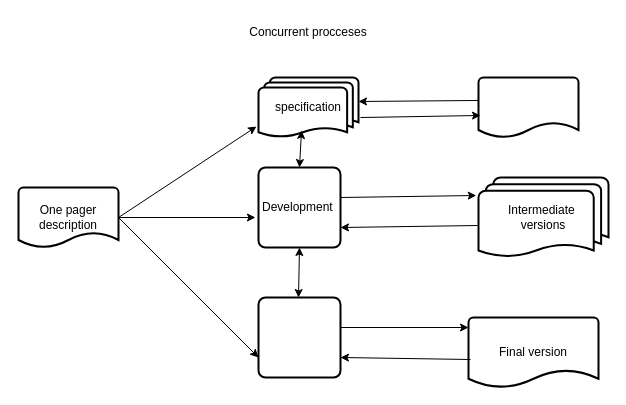
Some shapes in this 626 by 405 pixel diagram are drawn without their labels. Here are the shapes that lost their labels. From the top down, the centre of each, then its label:
[528,107]: Initial version
[299,337]: Validation
